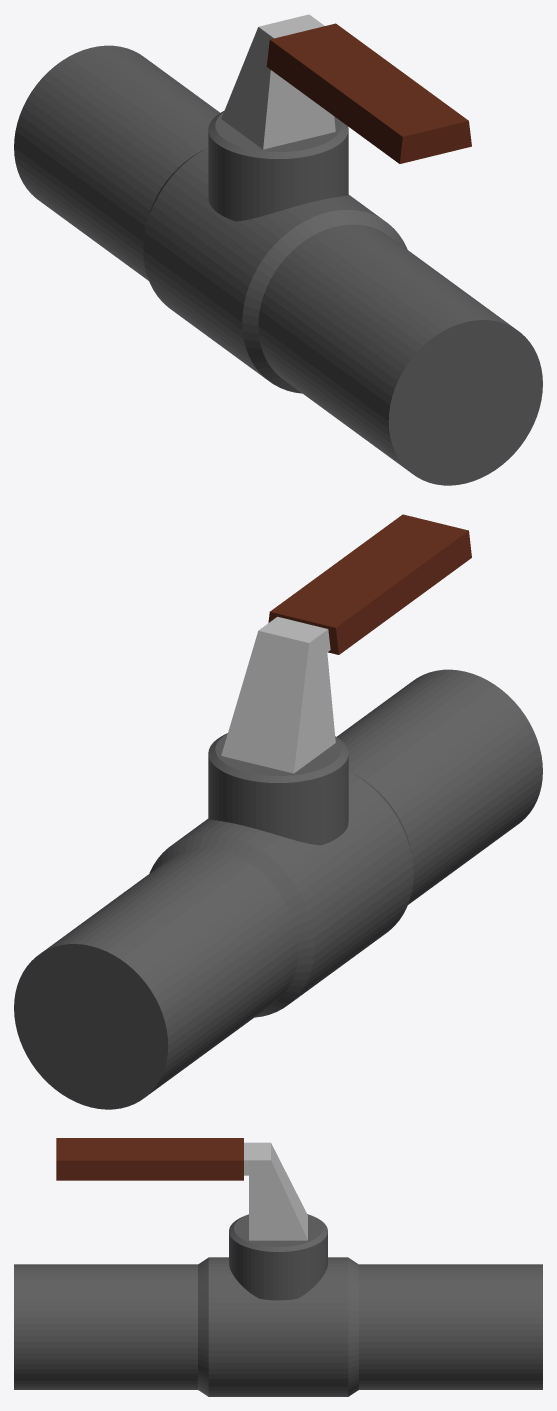
File: tap water.fbx
3 renders of one model, top to bottom at view 1: azimuth 30°, elevation 25°; view 2: azimuth 150°, elevation 25°; view 3: azimuth 270°, elevation 25°, orthographic. The views are drawn at different scales.
Visible parts, largest first — view 1: Cylinder, Cube, Cylinder.001; view 2: Cylinder, Cube, Cylinder.001; view 3: Cylinder, Cube, Cylinder.001.
Boxes of the visible parts, <box> form: Cylinder: <box>14,45,542,485</box>; Cube: <box>221,14,471,163</box>; Cylinder.001: <box>208,111,348,221</box>; Cylinder: <box>14,669,542,1109</box>; Cube: <box>221,514,471,773</box>; Cylinder.001: <box>208,733,348,845</box>; Cylinder: <box>14,1257,542,1396</box>; Cube: <box>56,1138,307,1240</box>; Cylinder.001: <box>229,1214,327,1300</box>.
Bounding box in the file's own units: 264 × 503 × 1000.
